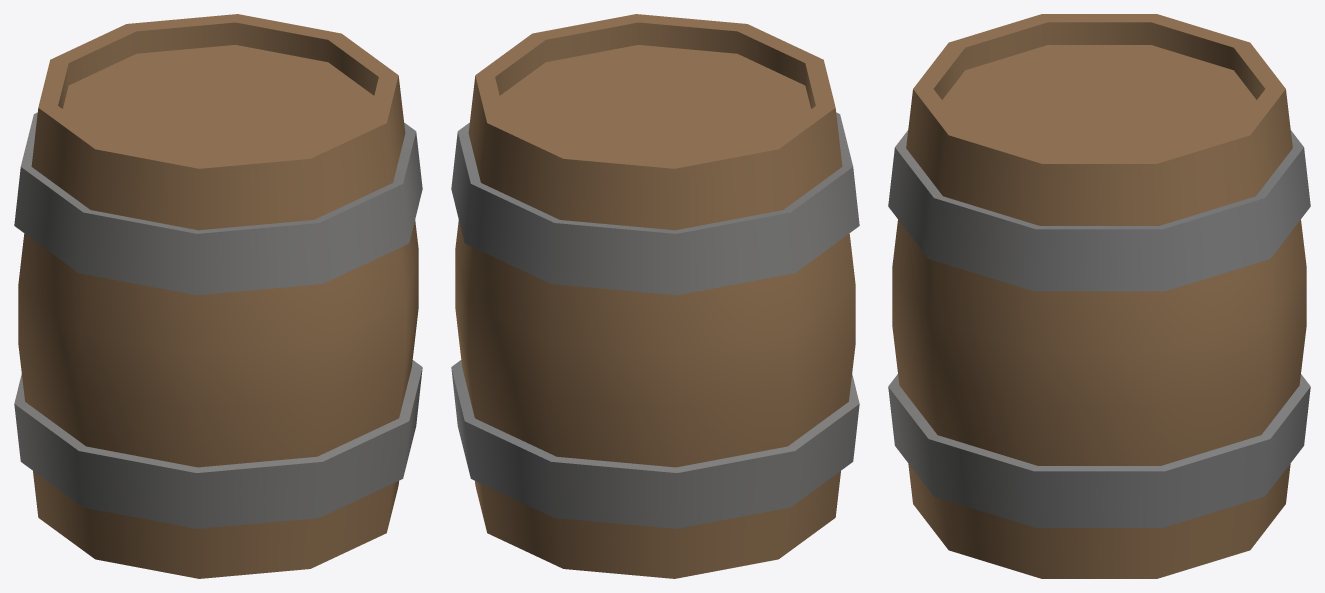
File: barrel.fbx
The picture shows the model from 3 angles, left to right: view 1: azimuth 30°, elevation 25°; view 2: azimuth 150°, elevation 25°; view 3: azimuth 270°, elevation 25°; orthographic projection.
Visible parts, largest first — view 1: barrl; view 2: barrl; view 3: barrl.
Boxes of the visible parts, bbox=[...] form: barrl: bbox=[14, 14, 422, 578]; barrl: bbox=[451, 14, 859, 578]; barrl: bbox=[888, 14, 1310, 578].
Bounding box in the file's own units: 0.2528 × 0.2881 × 0.2658.
